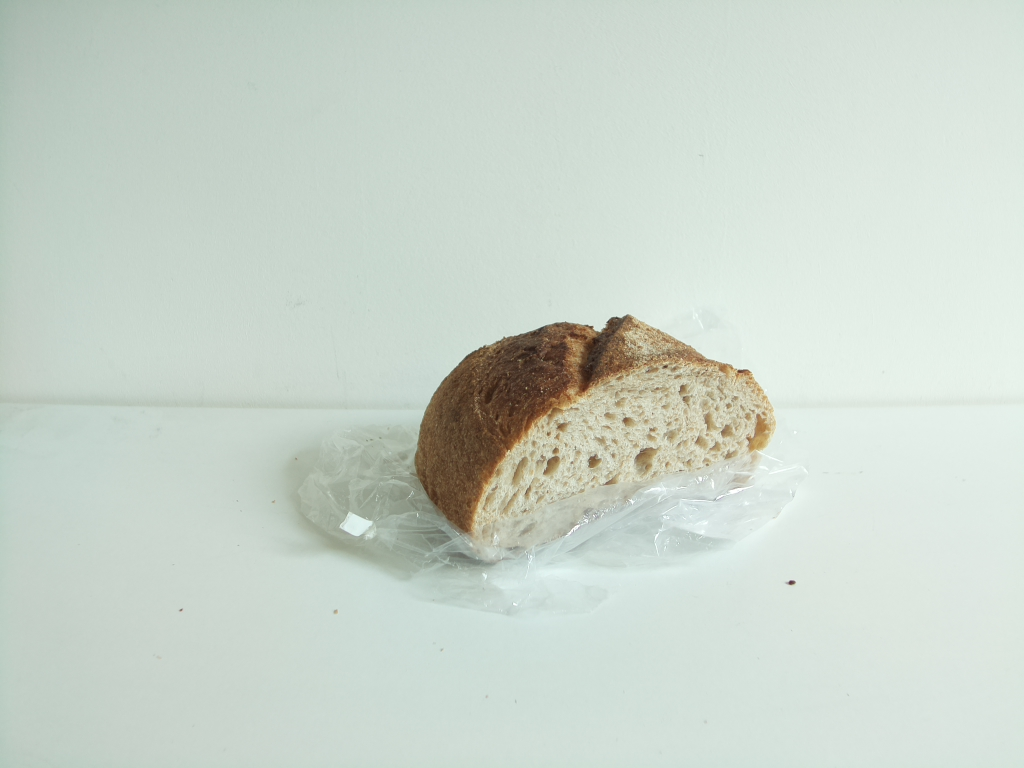bread: (412, 310, 780, 538)
